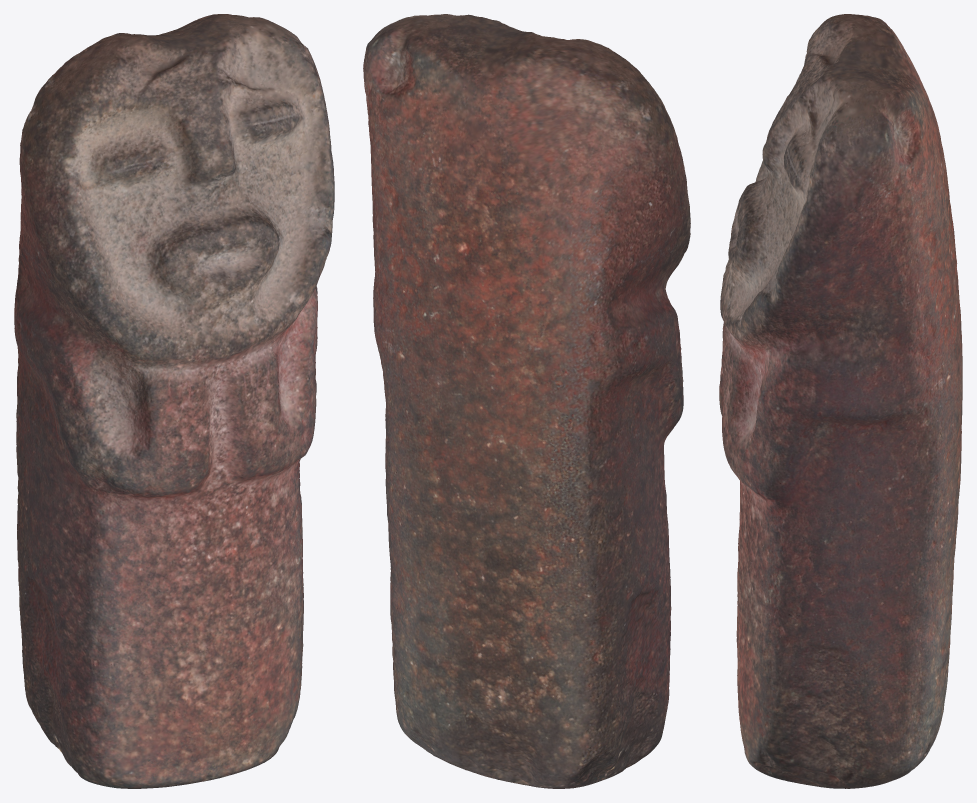
File: modelo4.glb
The picture shows the model from 3 angles, left to right: view 1: azimuth 30°, elevation 25°; view 2: azimuth 150°, elevation 25°; view 3: azimuth 270°, elevation 25°; orthographic projection. The views are drawn at different scales.
Visible parts, largest first — view 1: Model; view 2: Model; view 3: Model.
Part boxes in pixels (x1,y1,x2,y2): Model: (14,14,334,788); Model: (363,14,690,788); Model: (719,14,962,788).
Bounding box in the file's own units: 0.0964 × 0.2277 × 0.0698.
Materials: 1 (1 with a texture image).
